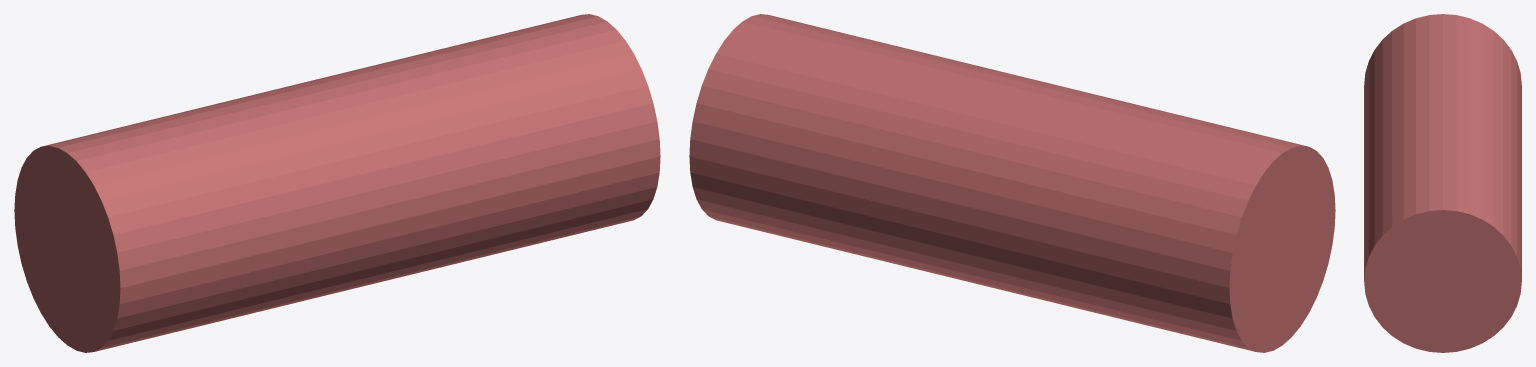
The model's file is W-PIN-R.glb.
The picture shows the model from 3 angles, left to right: view 1: azimuth 30°, elevation 25°; view 2: azimuth 150°, elevation 25°; view 3: azimuth 270°, elevation 25°; orthographic projection. The views are drawn at different scales.
Parts seen in each view (by area): view 1: geometry_0; view 2: geometry_0; view 3: geometry_0.
Boxes of the visible parts, bbox=[...] form: geometry_0: bbox=[14, 14, 660, 352]; geometry_0: bbox=[689, 14, 1335, 352]; geometry_0: bbox=[1364, 14, 1521, 352].
Size of the model in its own units: 56 by 19.05 by 19.05.
